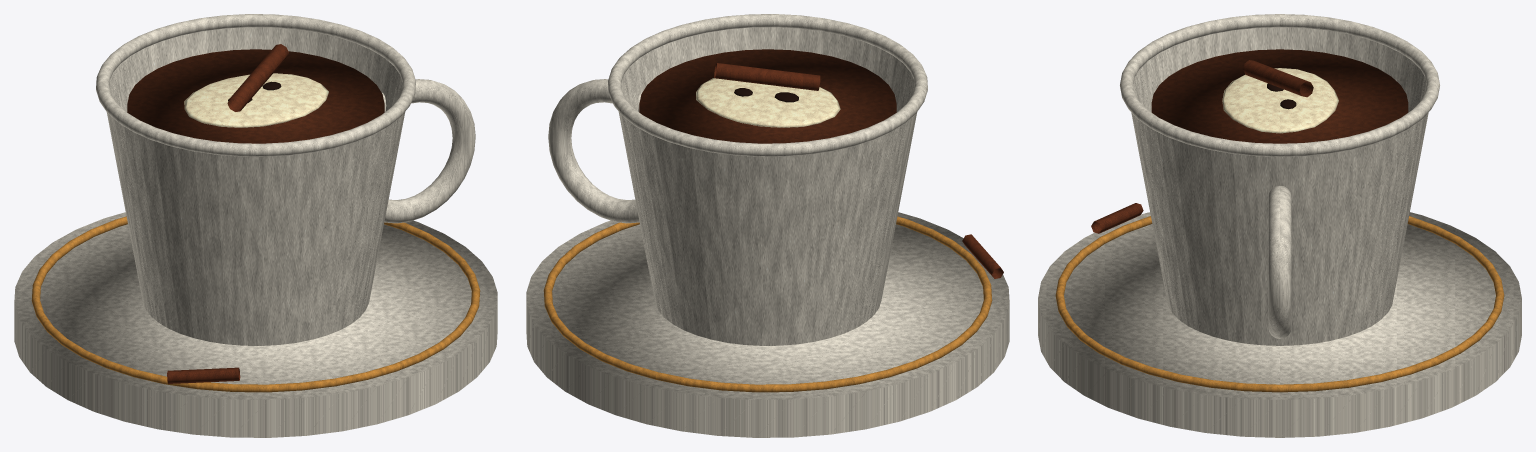
The model's file is chocolate-caliente.glb.
3 views of the same model, side by side, from view 1: azimuth 30°, elevation 25°; view 2: azimuth 150°, elevation 25°; view 3: azimuth 270°, elevation 25° (orthographic).
Visible parts, largest first — view 1: porcelain, hotChocolate, gold, foam, cinnamon; view 2: porcelain, hotChocolate, gold, foam, cinnamon; view 3: porcelain, hotChocolate, gold, foam, cinnamon.
Part boxes in pixels (x1,y1,x2,y2): porcelain: (14, 14, 497, 437); hotChocolate: (127, 49, 384, 143); gold: (31, 216, 480, 392); foam: (184, 73, 328, 127); cinnamon: (167, 44, 288, 383); porcelain: (526, 14, 1009, 437); hotChocolate: (639, 49, 896, 143); gold: (543, 216, 992, 392); foam: (696, 78, 840, 127); cinnamon: (714, 63, 1003, 278); porcelain: (1038, 14, 1521, 437); hotChocolate: (1151, 49, 1408, 143); gold: (1055, 216, 1504, 392); foam: (1222, 68, 1338, 133); cinnamon: (1091, 60, 1313, 233).
Size of the model in its own units: 0.296 by 0.1804 by 0.29.
Materials: 6 (6 with a texture image).
